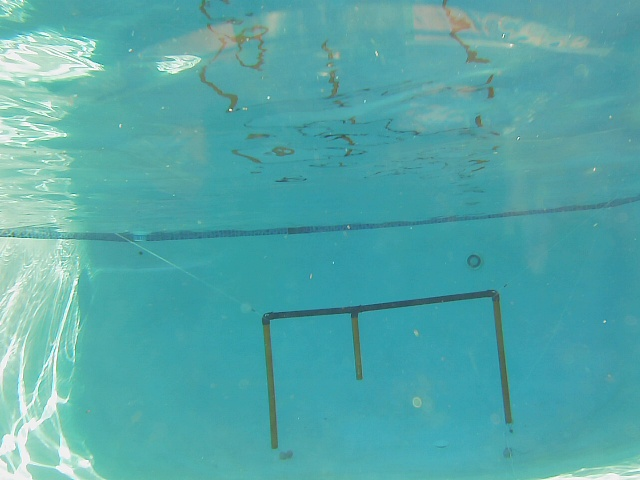Gate: (259, 314, 281, 445), (493, 295, 515, 425), (349, 313, 363, 385)
